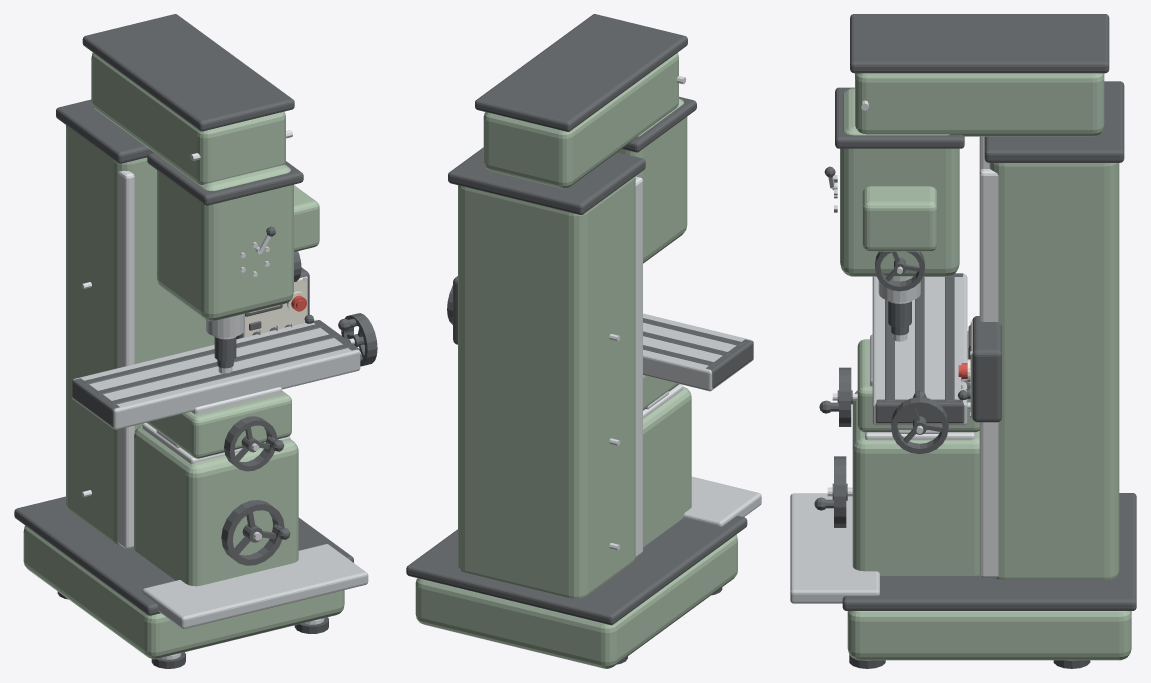
3 renders of one model, left to right at view 1: azimuth 30°, elevation 25°; view 2: azimuth 150°, elevation 25°; view 3: azimuth 270°, elevation 25°, orthographic. The views are drawn at different scales.
Visible parts, largest first — view 1: machine-shop-and-factory-hall-milling-machine_2, machine-shop-and-factory-hall-milling-machine_3, table-travel/cast, machine-shop-and-factory-hall-milling-machine_6, machine-shop-and-factory-hall-milling-machine_1, table-travel/charcoal, machine-shop-and-factory-hall-milling-machine_4, machine-shop-and-factory-hall-milling-machine_0, spindle-spin/charcoal; view 2: machine-shop-and-factory-hall-milling-machine_2, machine-shop-and-factory-hall-milling-machine_3, table-travel/cast, machine-shop-and-factory-hall-milling-machine_1, table-travel/charcoal, machine-shop-and-factory-hall-milling-machine_6; view 3: machine-shop-and-factory-hall-milling-machine_2, machine-shop-and-factory-hall-milling-machine_3, machine-shop-and-factory-hall-milling-machine_1, machine-shop-and-factory-hall-milling-machine_6, table-travel/cast, table-travel/charcoal, spindle-spin/charcoal, machine-shop-and-factory-hall-milling-machine_0.
Boxes of the visible parts, bbox=[...] form: machine-shop-and-factory-hall-milling-machine_2: bbox=[23, 52, 344, 659]; machine-shop-and-factory-hall-milling-machine_3: bbox=[14, 14, 353, 615]; table-travel/cast: bbox=[72, 319, 360, 429]; machine-shop-and-factory-hall-milling-machine_6: bbox=[142, 314, 368, 629]; machine-shop-and-factory-hall-milling-machine_1: bbox=[81, 130, 324, 659]; table-travel/charcoal: bbox=[72, 313, 377, 426]; machine-shop-and-factory-hall-milling-machine_4: bbox=[243, 276, 307, 337]; machine-shop-and-factory-hall-milling-machine_0: bbox=[57, 591, 328, 668]; spindle-spin/charcoal: bbox=[214, 337, 236, 368]; machine-shop-and-factory-hall-milling-machine_2: bbox=[415, 52, 737, 668]; machine-shop-and-factory-hall-milling-machine_3: bbox=[406, 14, 747, 625]; table-travel/cast: bbox=[643, 313, 753, 391]; machine-shop-and-factory-hall-milling-machine_1: bbox=[609, 76, 686, 557]; table-travel/charcoal: bbox=[447, 285, 753, 388]; machine-shop-and-factory-hall-milling-machine_6: bbox=[683, 476, 761, 526]; machine-shop-and-factory-hall-milling-machine_2: bbox=[840, 73, 1131, 660]; machine-shop-and-factory-hall-milling-machine_3: bbox=[814, 14, 1136, 610]; machine-shop-and-factory-hall-milling-machine_1: bbox=[827, 100, 998, 577]; machine-shop-and-factory-hall-milling-machine_6: bbox=[790, 276, 920, 603]; table-travel/cast: bbox=[872, 274, 967, 425]; table-travel/charcoal: bbox=[875, 273, 964, 454]; spindle-spin/charcoal: bbox=[888, 301, 911, 335]; machine-shop-and-factory-hall-milling-machine_0: bbox=[849, 654, 1090, 668].
Size of the model in its own units: 1.39 by 2.59 by 1.39.
